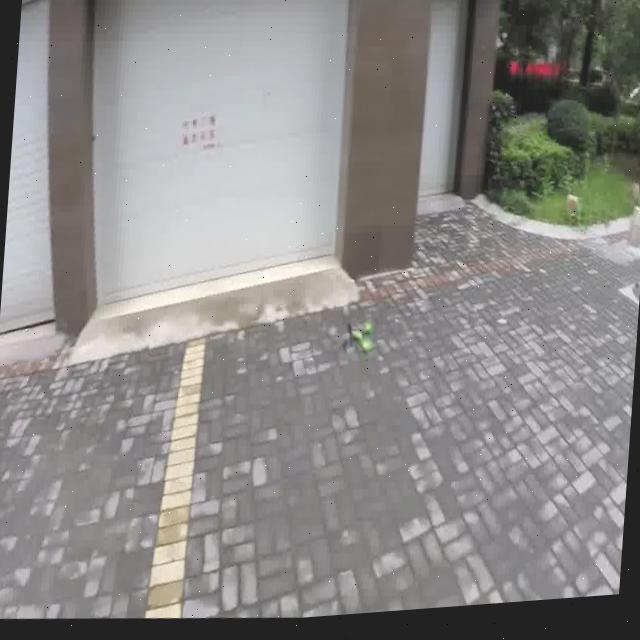drone: (334, 313, 385, 363)
